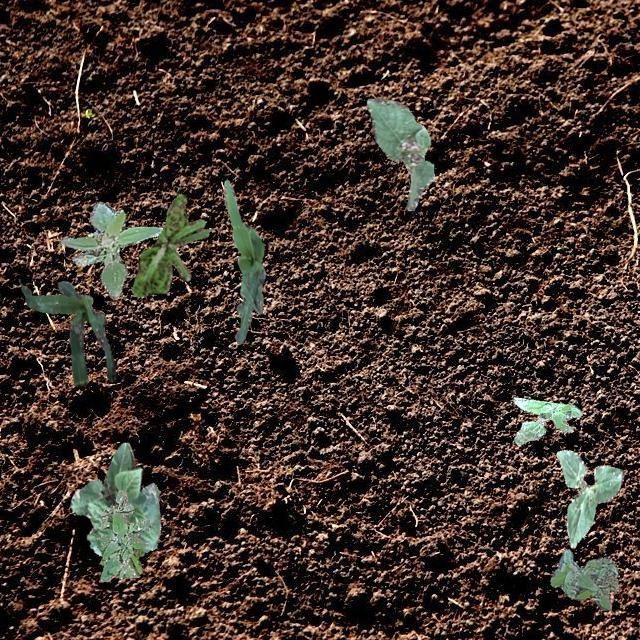crop: (70, 442, 160, 554), (20, 280, 114, 386), (366, 96, 434, 210), (222, 178, 264, 342), (556, 448, 622, 546)
weed: (60, 200, 162, 298), (130, 192, 210, 296), (96, 488, 150, 580), (550, 548, 616, 610), (512, 397, 580, 442), (100, 548, 144, 576)
